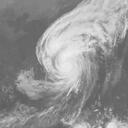cyclone: (35, 29, 94, 95)
